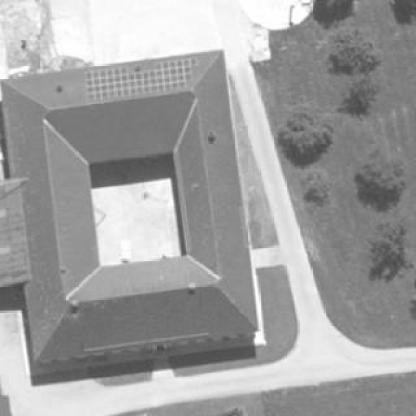solar-pv-panel: (85, 57, 198, 101)
